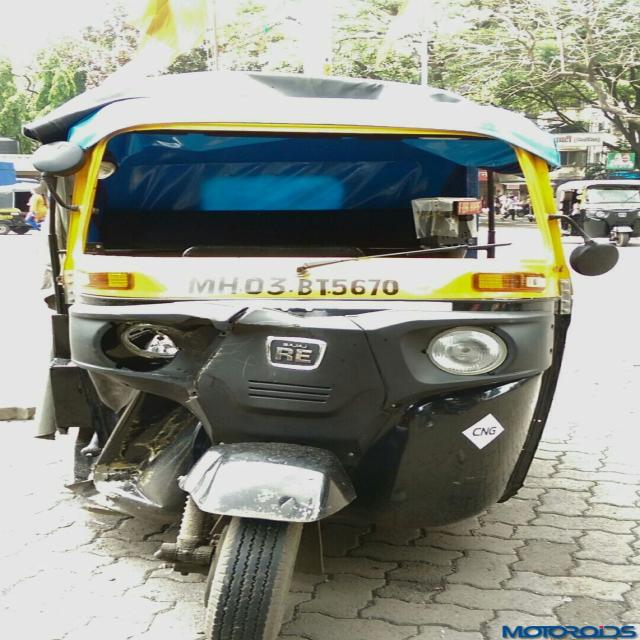accident: (25, 71, 617, 639)
autorickshaw: (555, 181, 640, 246), (0, 180, 47, 234)
